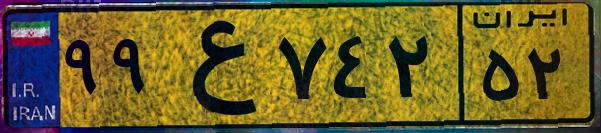2: (385, 28, 445, 110), (525, 38, 570, 115)
4: (330, 28, 385, 110)
5: (475, 38, 525, 113)
7: (270, 28, 330, 110)
9: (57, 26, 110, 100), (110, 28, 158, 98)
ع: (158, 12, 270, 120)
